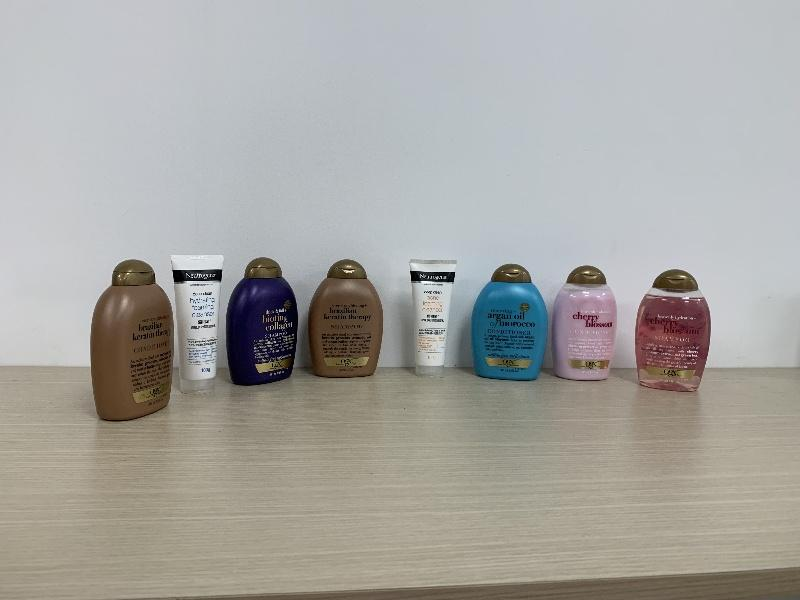AcneFoamingCleanser: (409, 258, 458, 379)
ArganOilOfMorocco_Conditioner: (471, 263, 548, 380)
BiotinCollagen_Shampoo: (226, 257, 298, 386)
BrazilianKeratinTherapy_Shampoo: (307, 259, 384, 378)
BrazilianKerationTherapy_Conditioner: (90, 259, 174, 420)
CherryBlossom_Conditioner: (551, 265, 618, 380)
CherryBlossom_Shampoo: (635, 269, 711, 392)
HydratingFoamingCleanser: (173, 254, 224, 394)
